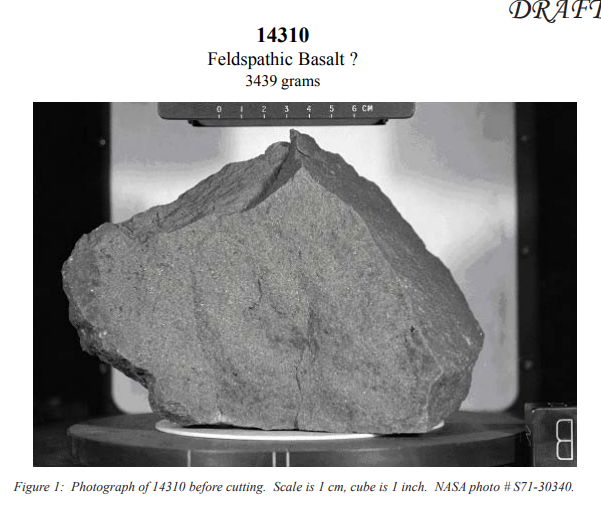Basalt: (61, 156, 498, 439)
